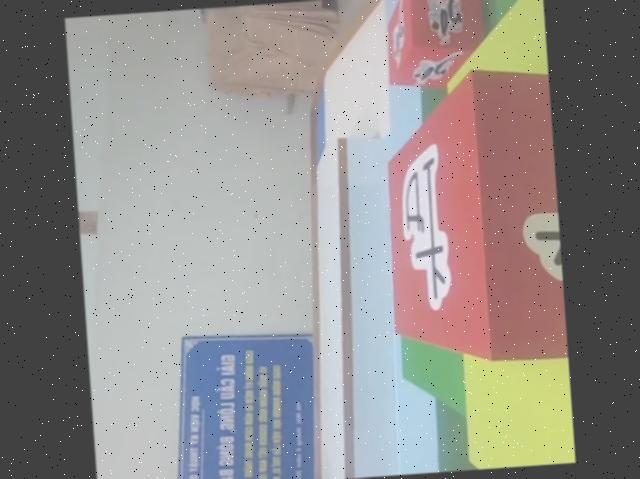R1: (382, 0, 492, 92)
R2 Real: (364, 59, 568, 370)
